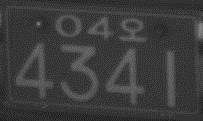0: (54, 14, 82, 38)
1: (154, 50, 186, 108)
3: (58, 43, 98, 103)
4: (105, 46, 145, 104), (14, 40, 53, 99), (87, 15, 114, 41)
오: (117, 17, 147, 43)
